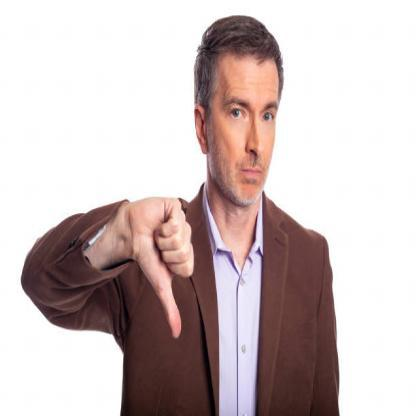thumb_down: (124, 190, 197, 342)
